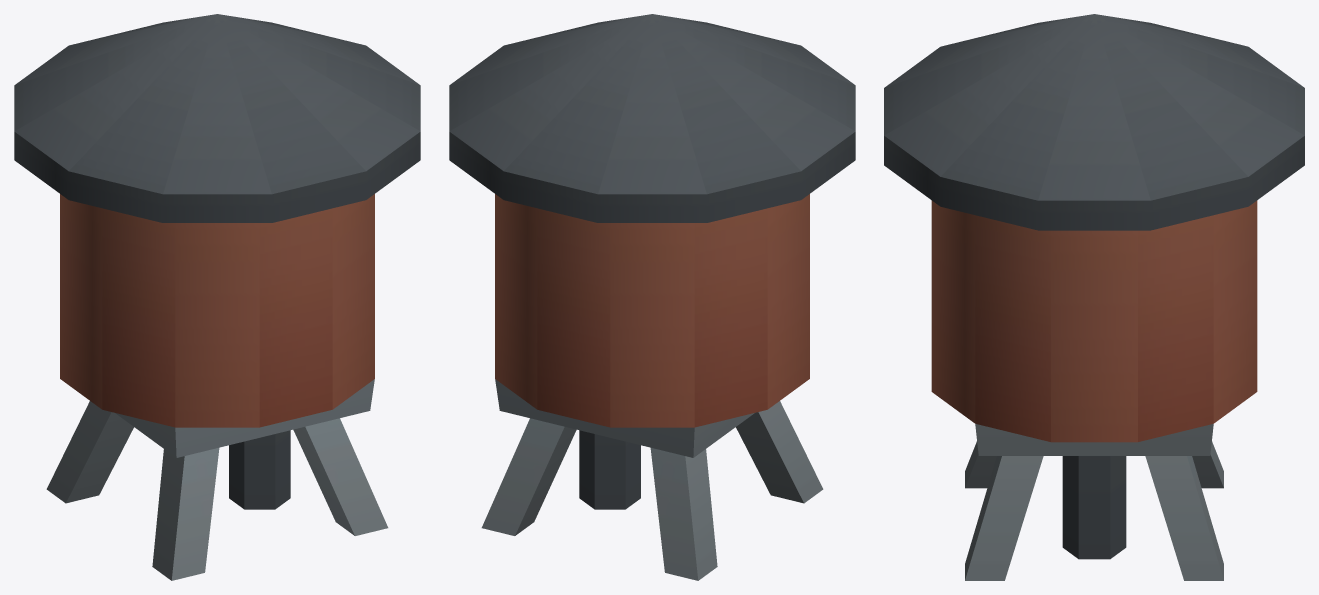
File: watertower.glb
The picture shows the model from 3 angles, left to right: view 1: azimuth 30°, elevation 25°; view 2: azimuth 150°, elevation 25°; view 3: azimuth 270°, elevation 25°; orthographic projection. The views are drawn at different scales.
Visible parts, largest first — view 1: watertower; view 2: watertower; view 3: watertower.
Part boxes in pixels (x1,y1,x2,y2): watertower: [14, 14, 420, 580]; watertower: [449, 14, 855, 580]; watertower: [884, 14, 1304, 580].
Bounding box in the file's own units: 0.4989 × 0.67 × 0.4989.
Materials: 1 (1 with a texture image).
